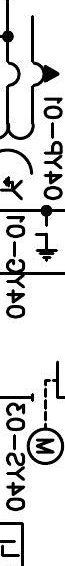115_1way_ds_w_motor: (25, 360, 64, 467)
115_gs: (34, 223, 59, 264)
